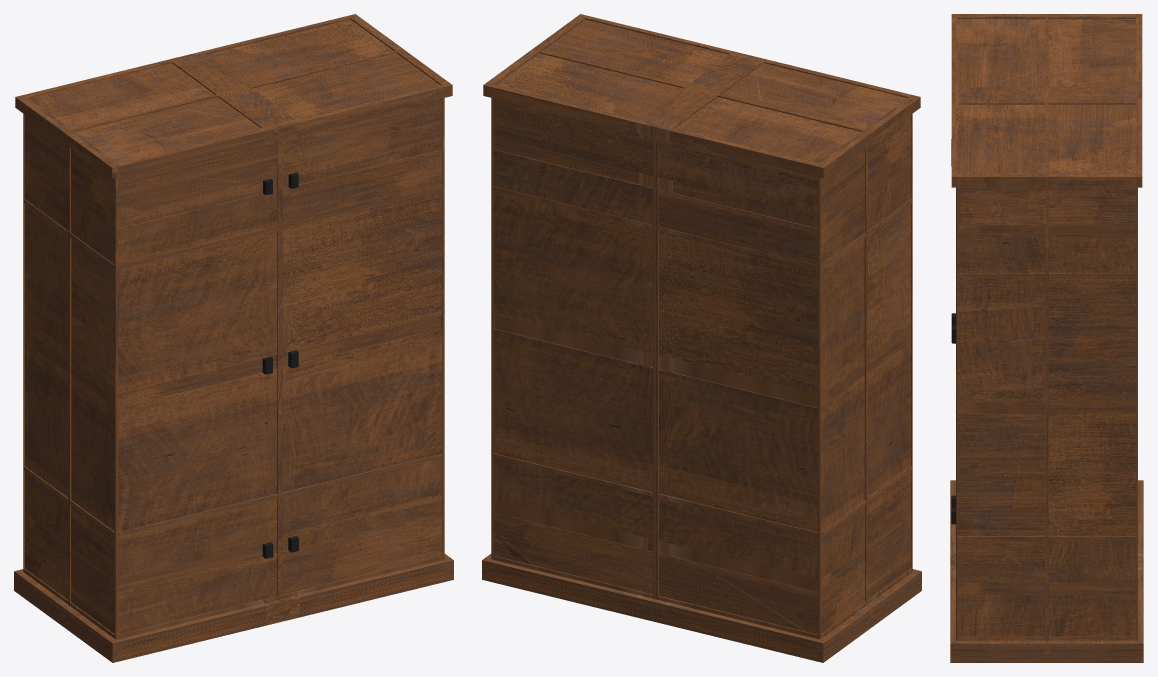
File: cupboard.glb
3 views of the same model, side by side, from view 1: azimuth 30°, elevation 25°; view 2: azimuth 150°, elevation 25°; view 3: azimuth 270°, elevation 25° (orthographic).
Visible parts, largest first — view 1: elem2, elem4, elem3, elem1; view 2: elem2, elem4, elem3; view 3: elem2, elem4, elem3, elem1.
Part boxes in pixels (x1=…): elem2: x1=24, y1=101, x2=441, y2=634; elem4: x1=14, y1=14, x2=453, y2=662; elem3: x1=28, y1=19, x2=439, y2=163; elem1: x1=262, y1=172, x2=298, y2=558; elem2: x1=494, y1=101, x2=911, y2=634; elem4: x1=482, y1=14, x2=921, y2=662; elem3: x1=496, y1=19, x2=907, y2=163; elem2: x1=957, y1=190, x2=1136, y2=636; elem4: x1=950, y1=14, x2=1143, y2=662; elem3: x1=957, y1=19, x2=1136, y2=172; elem1: x1=951, y1=139, x2=955, y2=524.
Size of the model in its own units: 1.6 by 2.22 by 0.8.
Materials: 2 (1 with a texture image).
